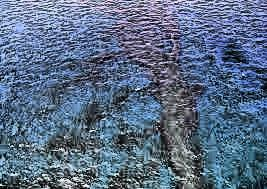sheen: (118, 1, 204, 188)
